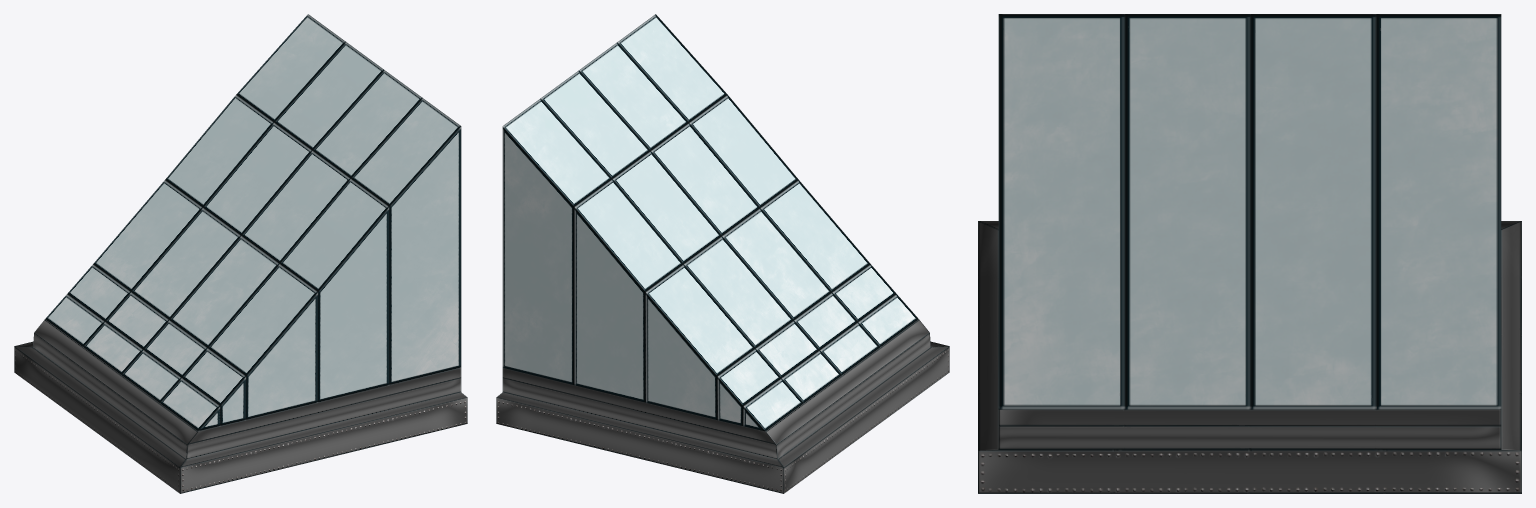
The model's file is Building_Top_02.dae.
3 renders of one model, left to right at view 1: azimuth 30°, elevation 25°; view 2: azimuth 150°, elevation 25°; view 3: azimuth 270°, elevation 25°, orthographic. The views are drawn at different scales.
Parts seen in each view (by area): view 1: Building_Top_02; view 2: Building_Top_02; view 3: Building_Top_02.
Boxes of the visible parts, bbox=[...] form: Building_Top_02: bbox=[14, 14, 467, 493]; Building_Top_02: bbox=[496, 14, 949, 493]; Building_Top_02: bbox=[978, 14, 1521, 493].
Size of the model in its own units: 45.05 by 43.86 by 45.04.
